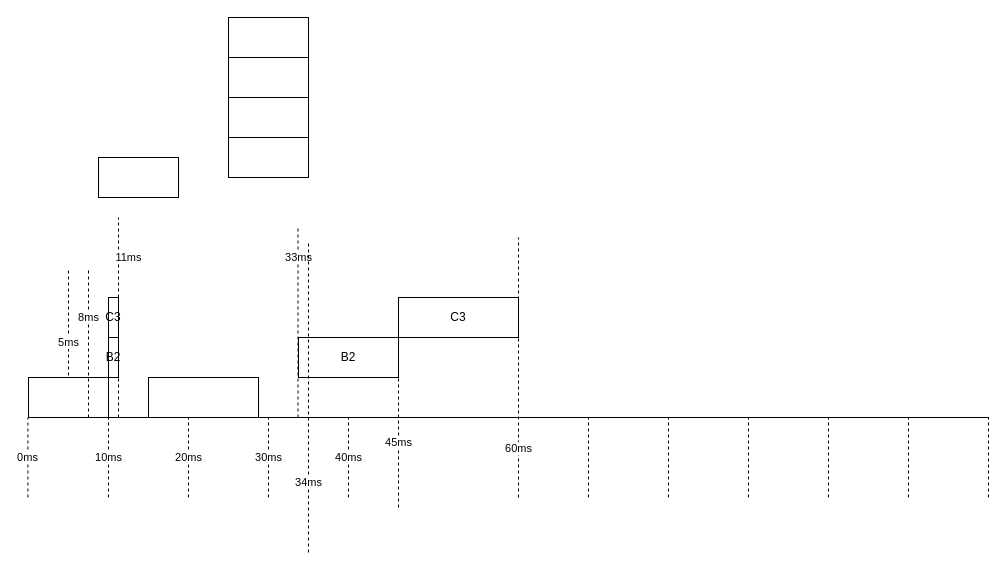
The diagram is 1008 pixels wide and 571 high, and some of its shapes have lost their labels. Here are the shapes that lost their labels. From the top down, the centre of each, then its label:
At (x=68, y=397): "A1".
At (x=203, y=397): "A4".
